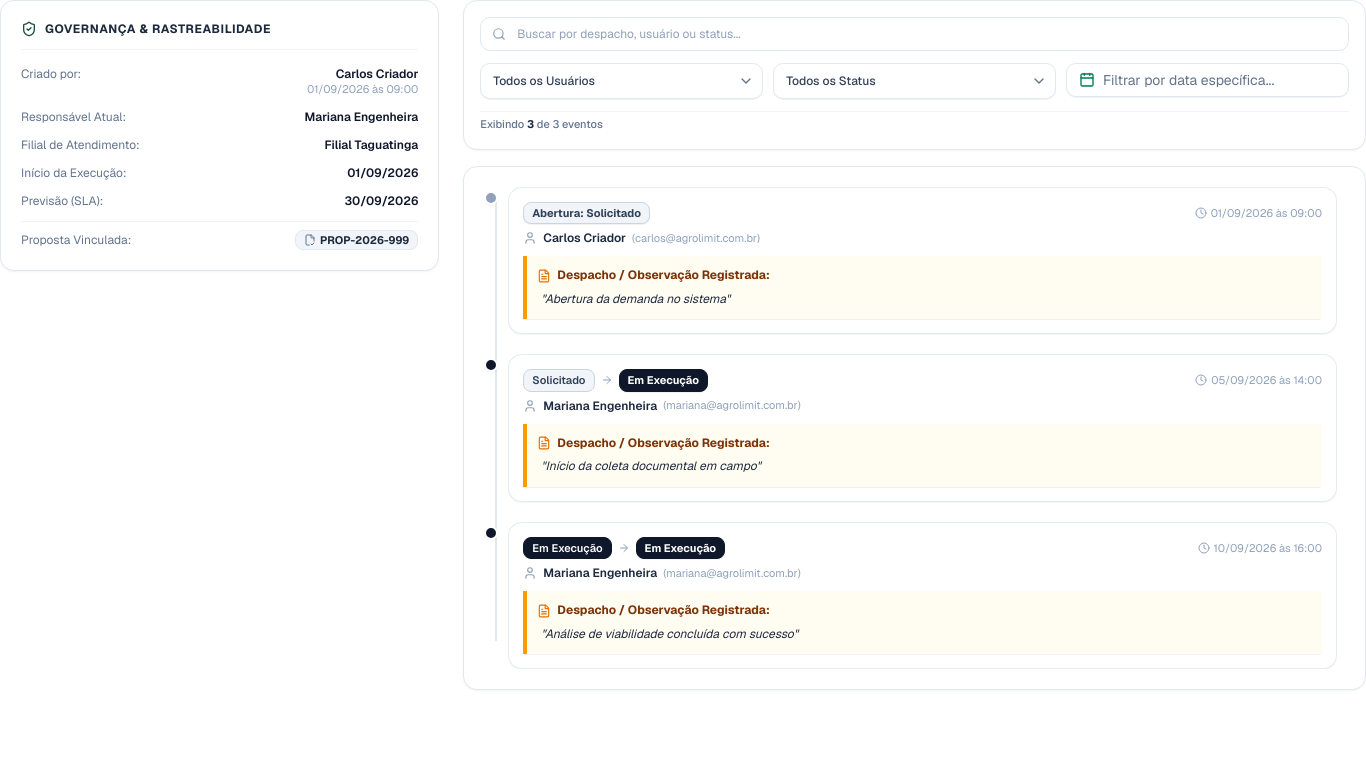
DemandAuditTabs — Governança (35%) e Histórico (65%) em Grid Amplo › deve exibir mensagem amigável quando nenhum evento corresponder ao filtro
The image size is (1366, 768).
Type "termo_inexistente_xyz" into the field with placeholder "Buscar por despacho, usuário ou status..." at [915, 34], box [480, 17, 1349, 51]
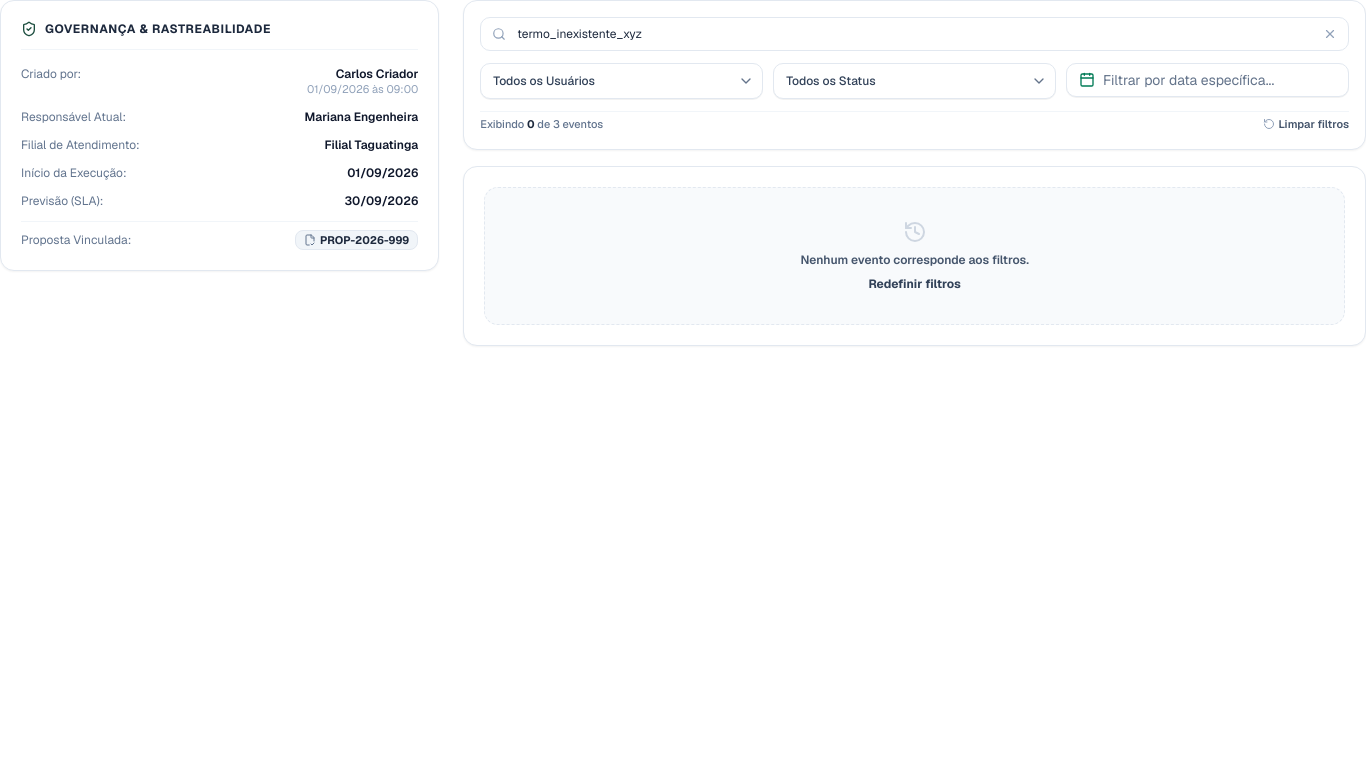
Result: the text "Nenhum evento corresponde aos filtros." is shown at [800, 252, 1029, 268]
// Clicar em redefinir filtros restaura os 3
Click the button "Redefinir filtros" at [915, 284], box [868, 276, 961, 292]
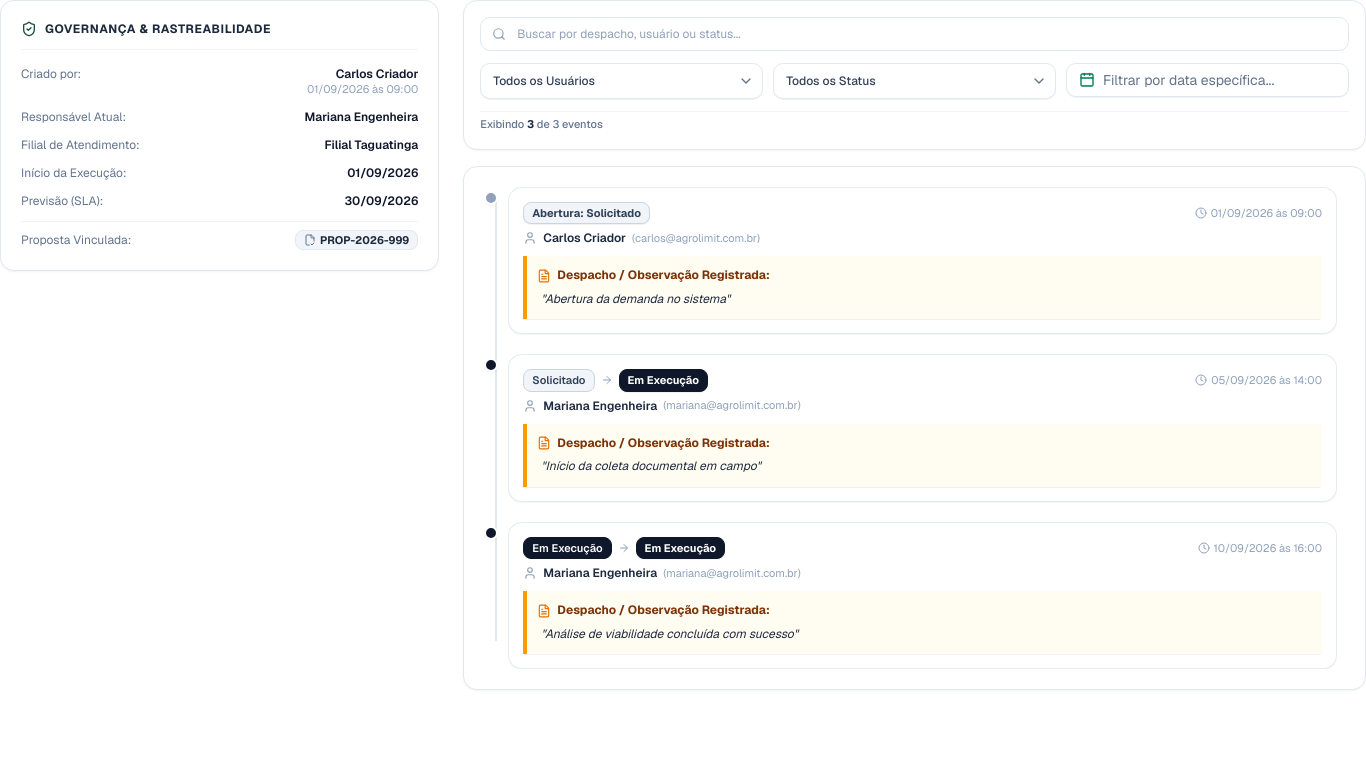
Result: the element with test id "history-counter" reads "Exibindo 3 de 3 eventos" at [480, 116, 603, 132]
Result: the text "\"Abertura da demanda no sistema\"" is shown at [541, 290, 730, 306]
